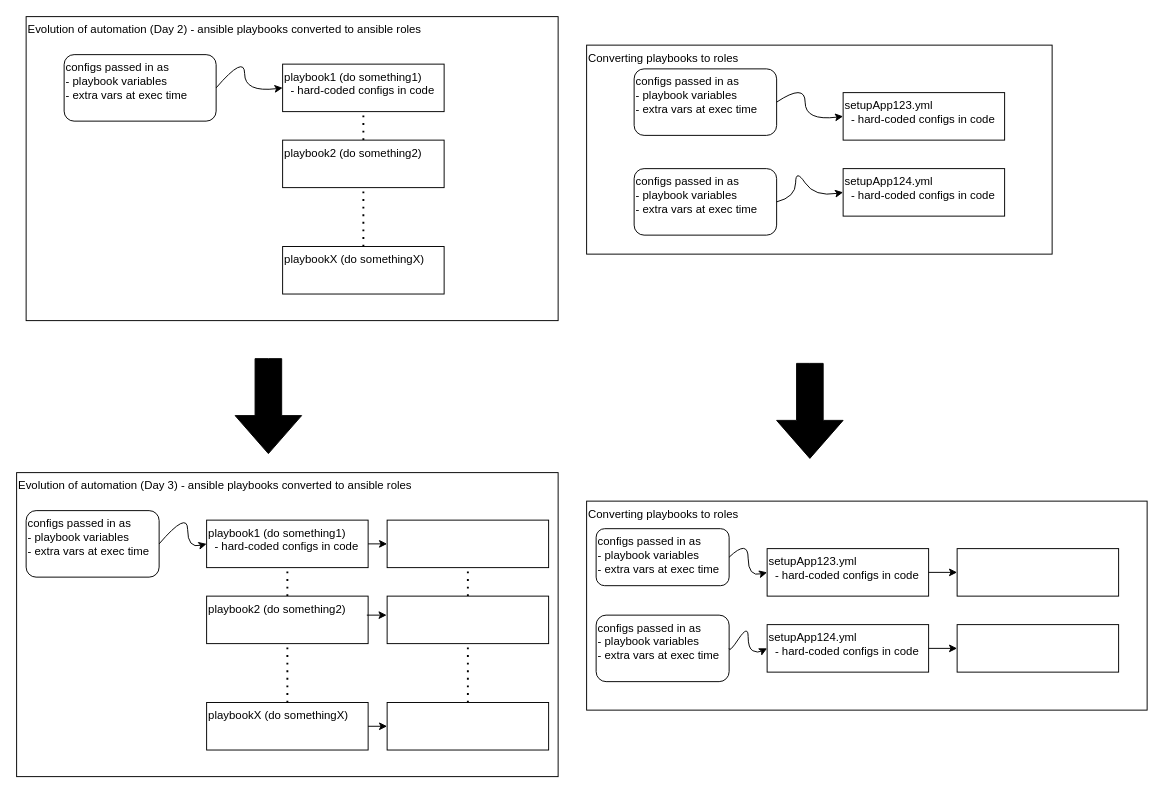
The diagram is 1164 pixels wide and 793 high, and some of its shapes have lost their labels. Here are the shapes that lost their labels. From the top down, the centre of each, then its label:
the point at 467,543: role1 (do something1) - hard-coded configs in role
the point at 1037,572: setupApp123Role - hard-coded configs in code
the point at 467,619: role2 (do something2)
the point at 1037,648: setupApp124Role - hard-coded configs in code
the point at 467,726: roleX (do somethingX)
